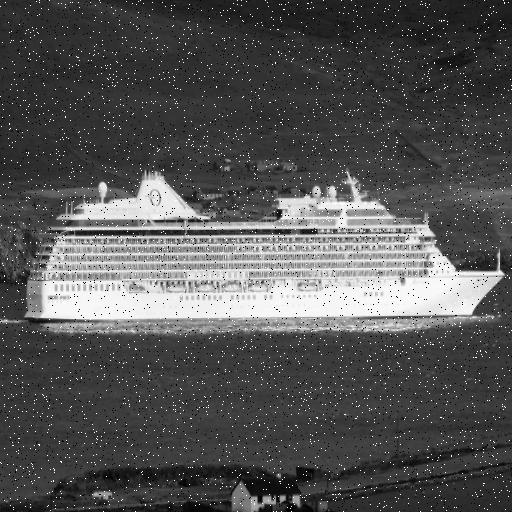cruises: (23, 151, 512, 353)
